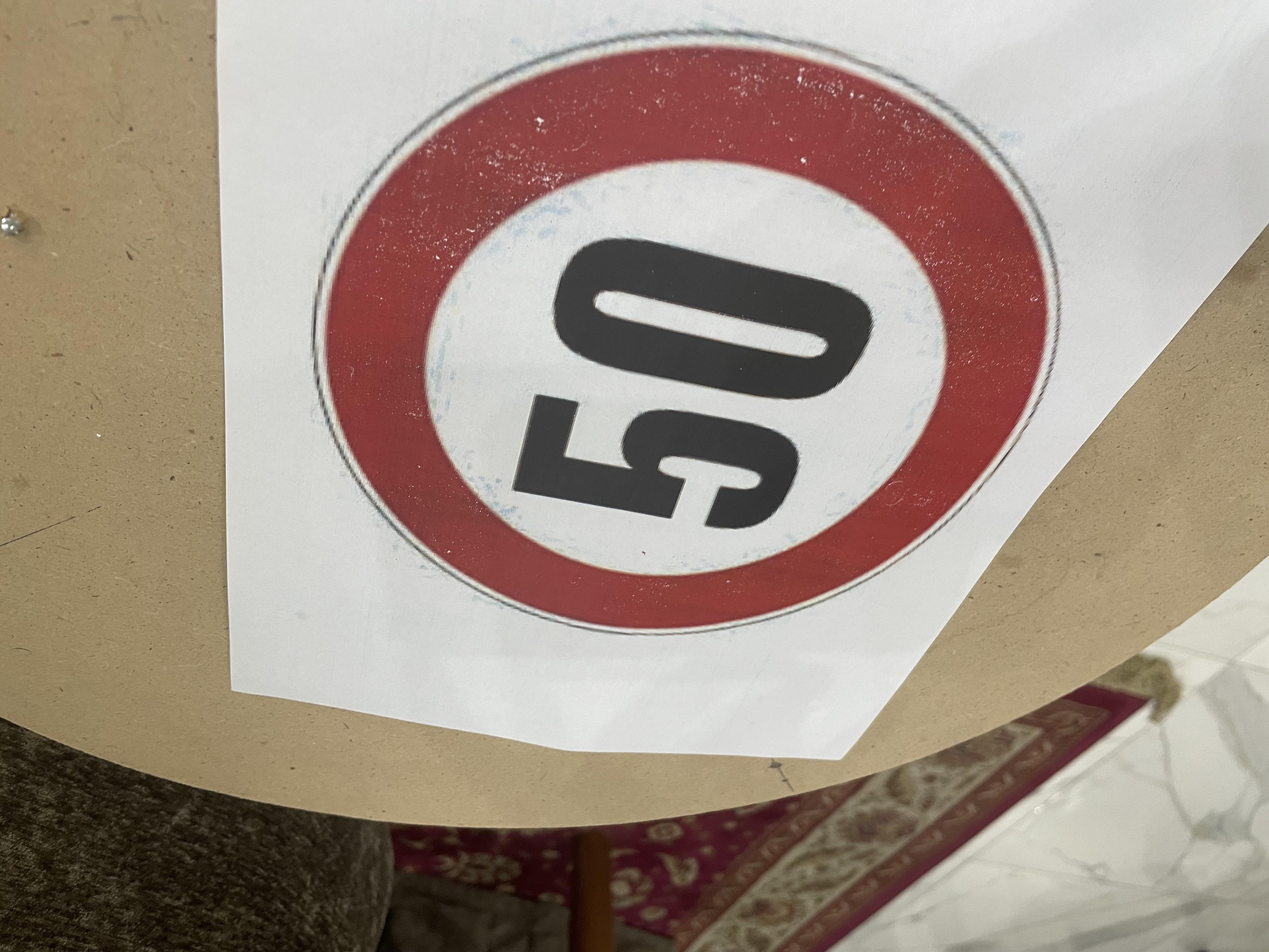50-Speed: (205, 312, 970, 915)
